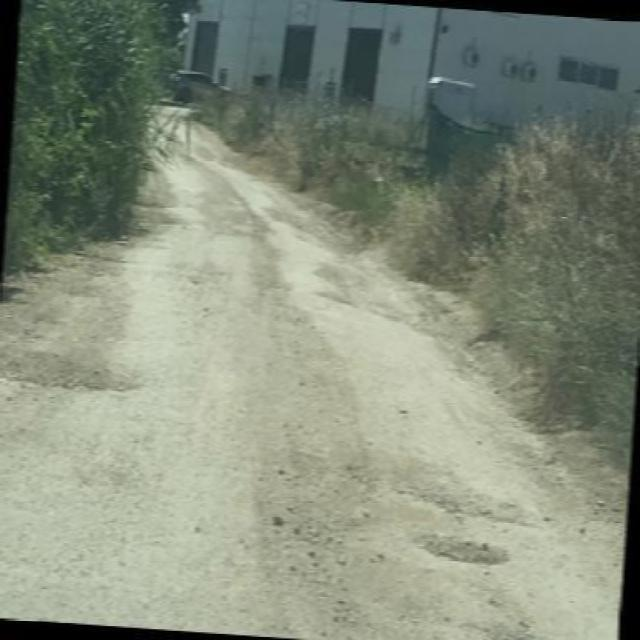Pothole: (397, 294, 582, 430), (374, 450, 553, 530), (0, 341, 155, 391), (416, 530, 520, 574), (318, 255, 366, 296)
